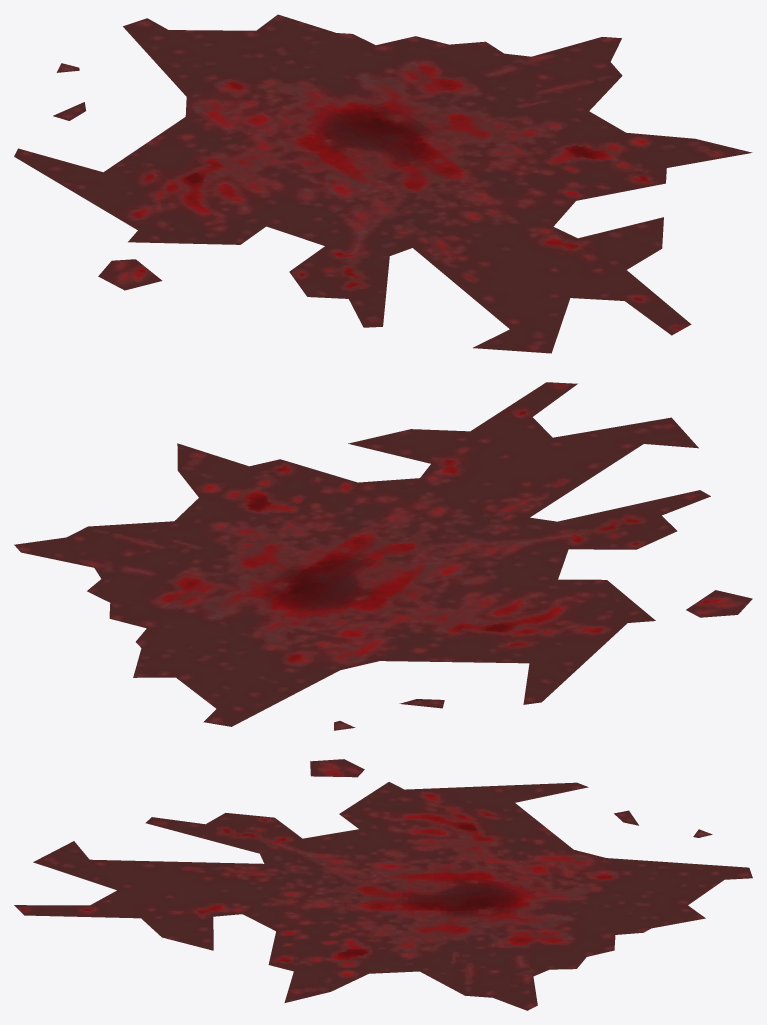
File: Effect_FootBlood1.fbx
3 views of the same model, one above another, from view 1: azimuth 30°, elevation 25°; view 2: azimuth 150°, elevation 25°; view 3: azimuth 270°, elevation 25° (orthographic). The views are drawn at different scales.
Visible parts, largest first — view 1: SM_Com_SplatterBlood_A5.mo; view 2: SM_Com_SplatterBlood_A5.mo; view 3: SM_Com_SplatterBlood_A5.mo.
Boxes of the visible parts, x1=… form: SM_Com_SplatterBlood_A5.mo: x1=14, y1=14, x2=752, y2=353; SM_Com_SplatterBlood_A5.mo: x1=14, y1=382, x2=752, y2=730; SM_Com_SplatterBlood_A5.mo: x1=14, y1=759, x2=752, y2=1010.
Size of the model in its own units: 36.48 by 7.37e-06 by 45.26.
